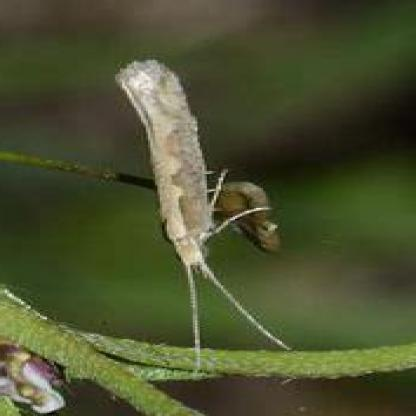plutella: (109, 52, 305, 379)
